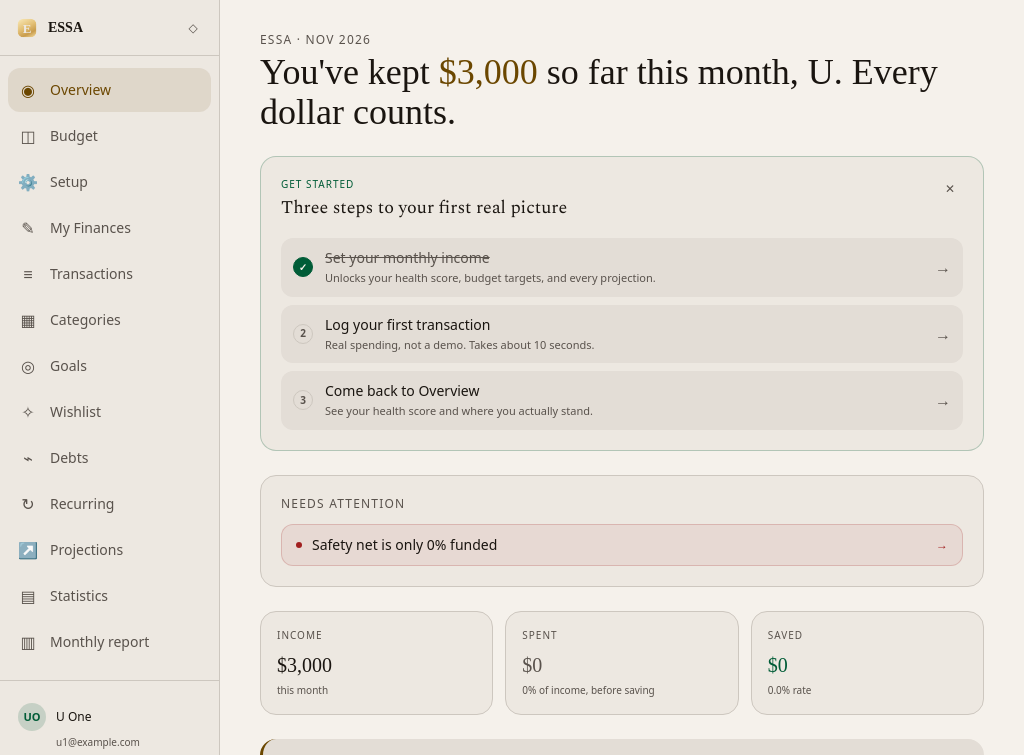
it: U3: dismissing the failed-backup notice › after a backup succeeds, the next failure shows it again
Expected: the button "⚙ Setup" is shown, [8,160,211,204]
Click the button "✧ Wishlist" at (110, 412), box [8,390,211,434]
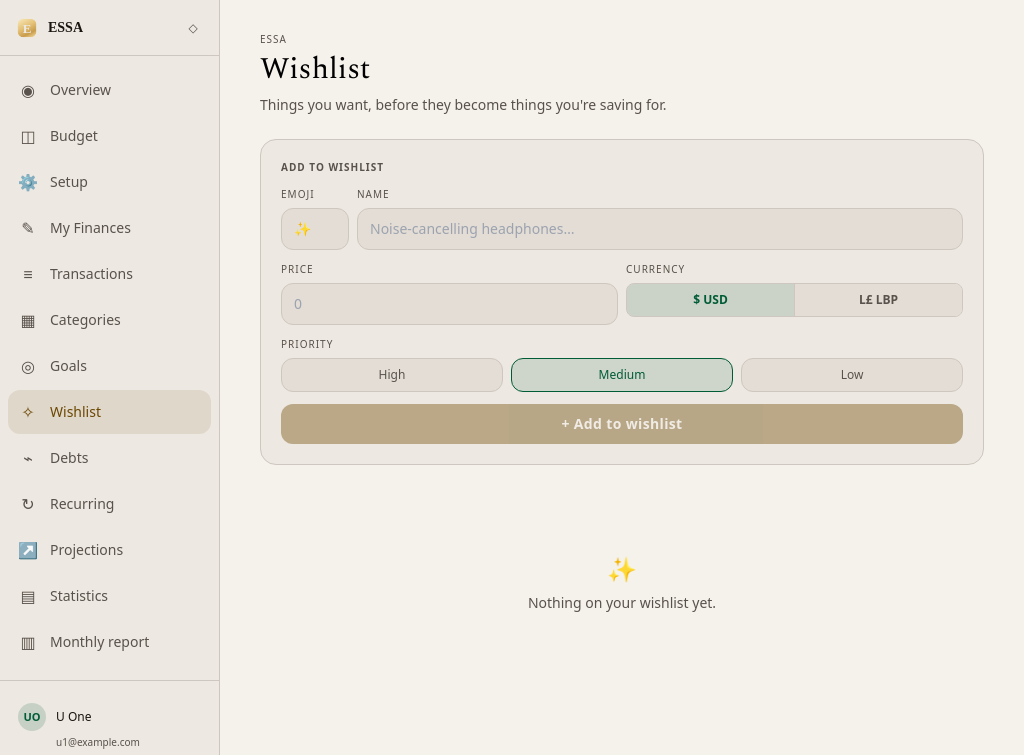
Type "Amber stool" into the field with id "wish-name" at (660, 229), box [357,208,963,250]
Type "22.15" into the field with id "wish-price" at (450, 304), box [281,283,618,325]
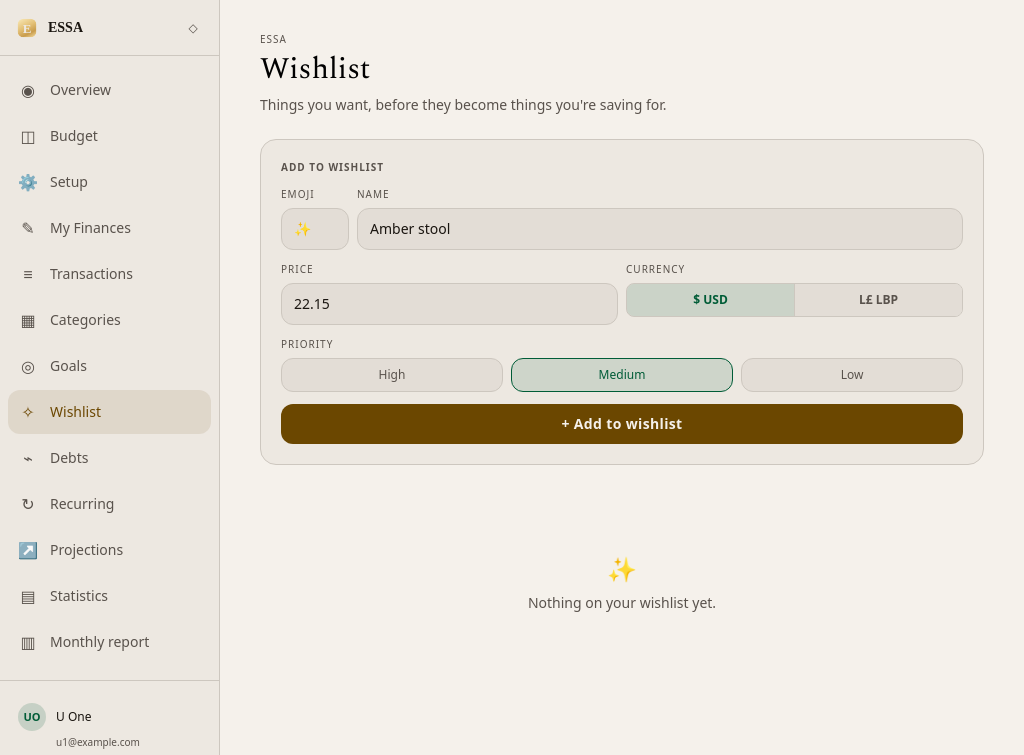
Click the button "+ Add to wishlist" at (622, 424), box [281,404,963,444]
Wait 3000 ms
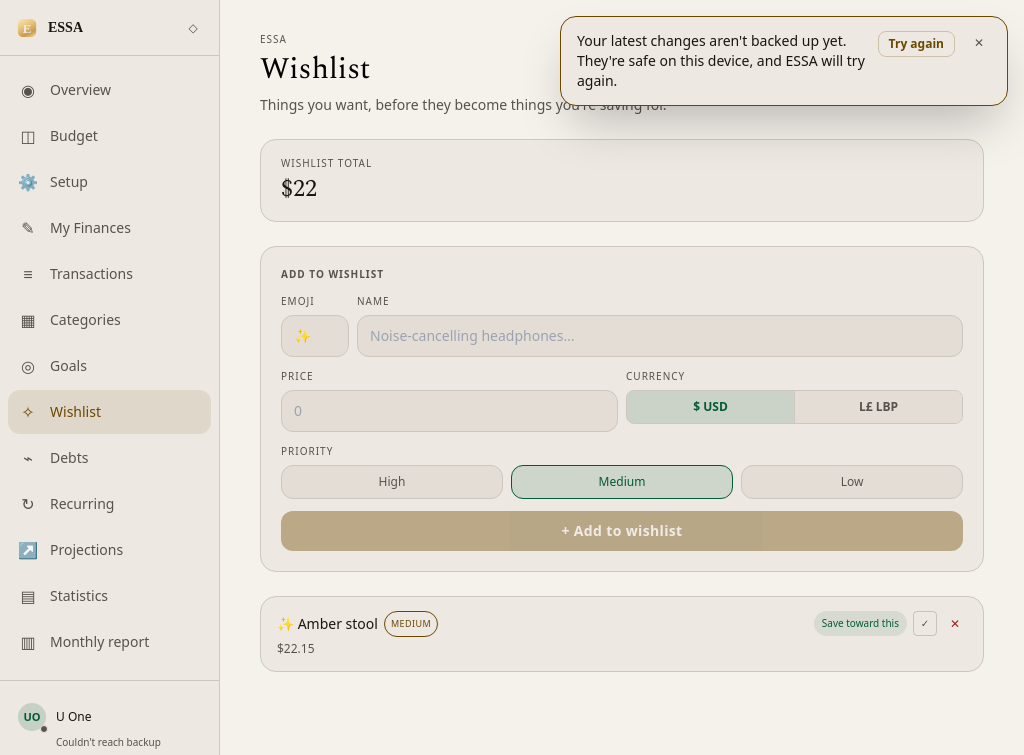
Expected: the text "Your latest changes aren't backed up yet. They're safe on this device, and ESSA will try again." is shown, [577,31,865,90]
Click the button named "Dismiss" at (979, 43), box [967,31,991,55]
Wait 60000 ms
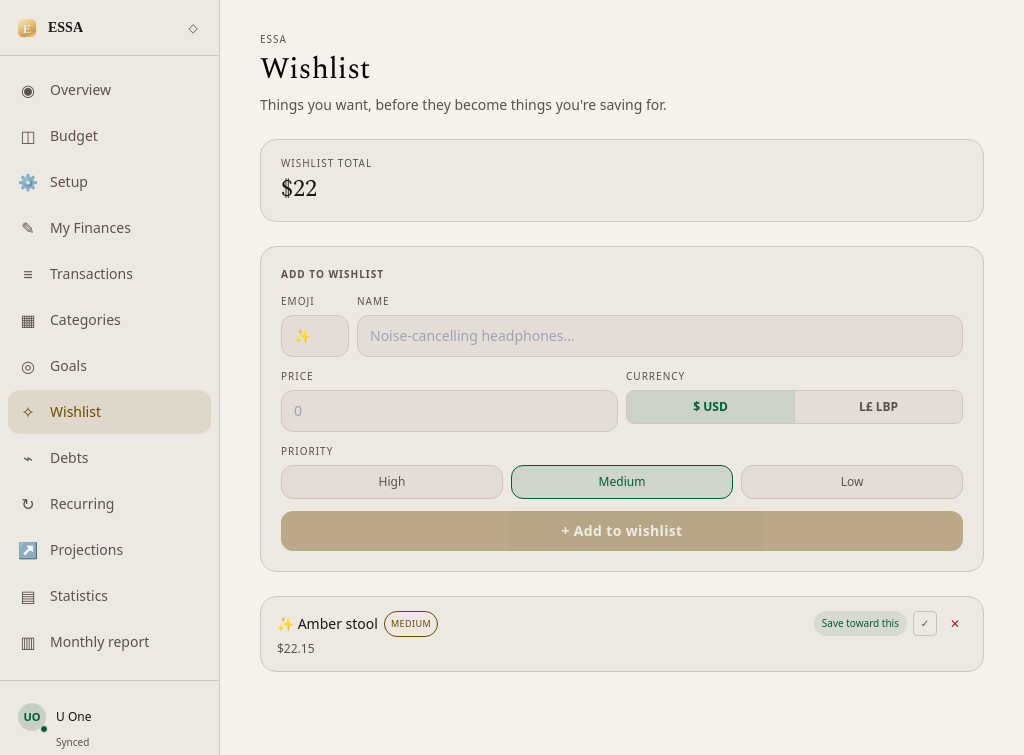
Type "Teal lamp" into the field with id "wish-name" at (660, 336), box [357,315,963,357]
Type "31" into the field with id "wish-price" at (450, 411), box [281,390,618,432]
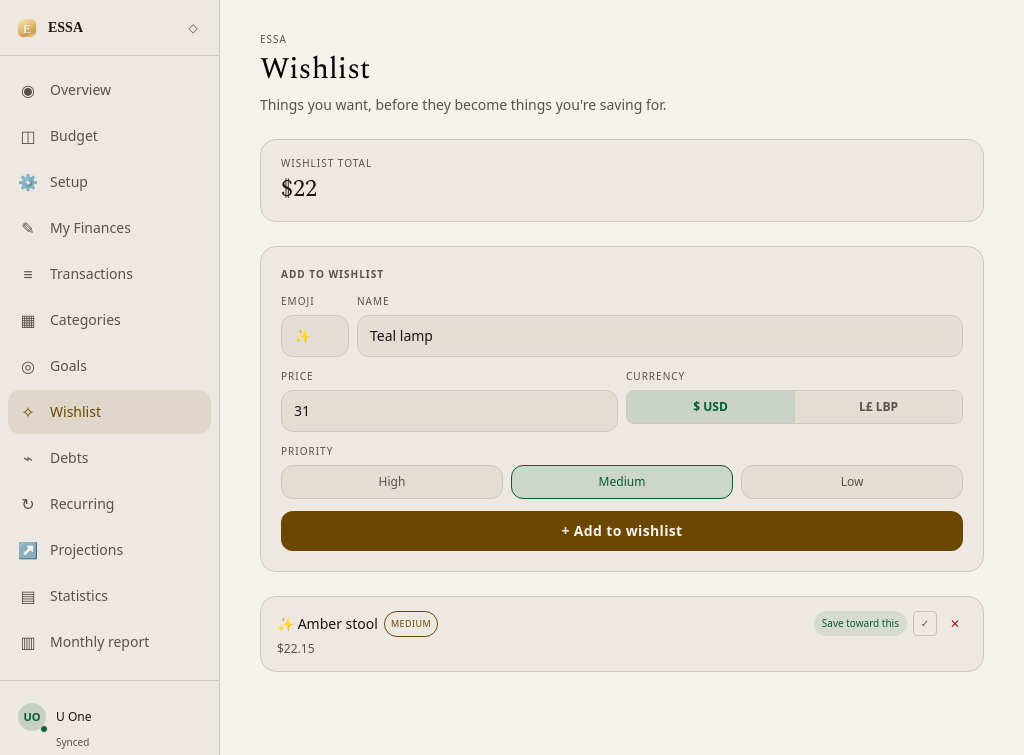
Click the button "+ Add to wishlist" at (622, 531), box [281,511,963,551]
Wait 3000 ms
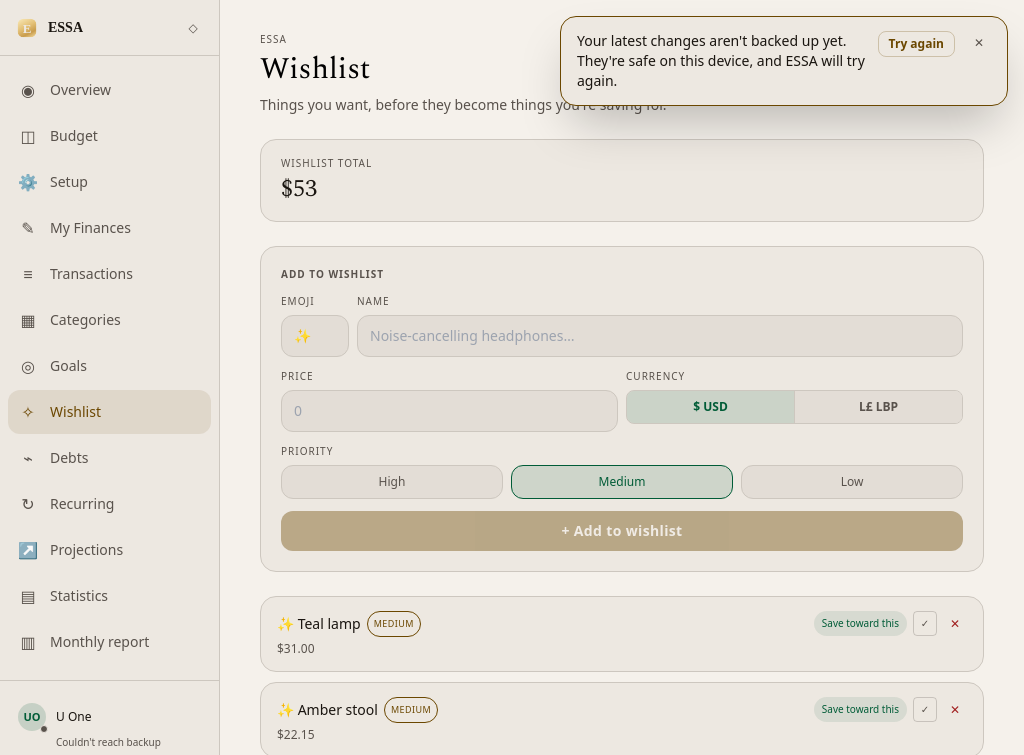
Expected: the text "Your latest changes aren't backed up yet. They're safe on this device, and ESSA will try again." is shown, [577,31,865,90]
